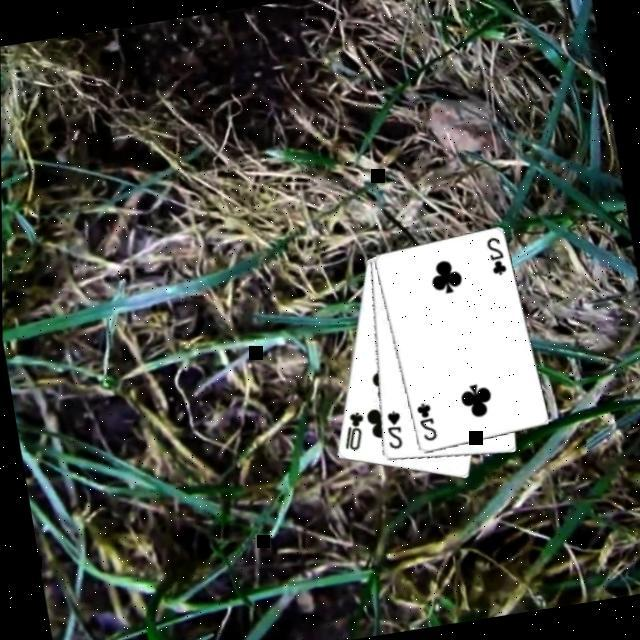10C: (333, 408, 368, 455)
2C: (480, 233, 507, 280), (410, 399, 436, 445)
2S: (378, 406, 404, 452)
